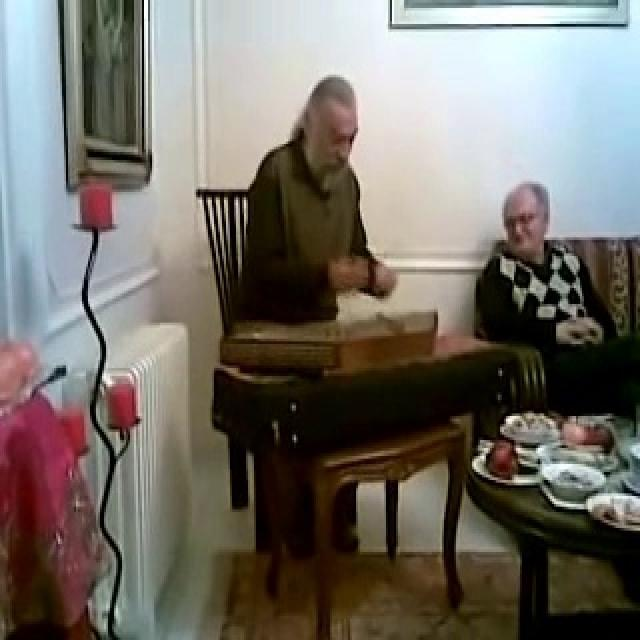Santur: (218, 297, 448, 369)
